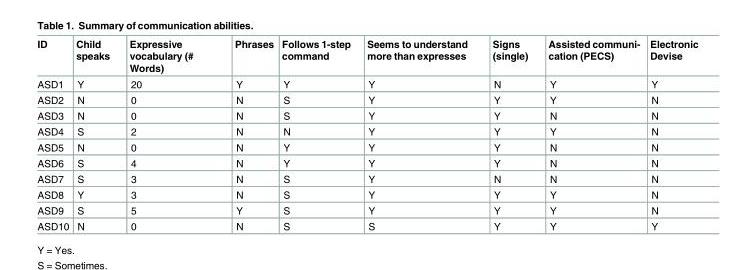table: (36, 37, 697, 231)
table column: (358, 37, 479, 231), (537, 37, 644, 231), (118, 37, 213, 231), (277, 37, 358, 231), (213, 37, 277, 231), (479, 37, 537, 231), (644, 37, 697, 231), (71, 37, 118, 231), (36, 37, 71, 231)
table column header: (36, 37, 697, 75)
table row: (36, 37, 697, 75), (36, 75, 697, 91), (36, 91, 697, 107), (36, 107, 697, 123), (36, 138, 697, 154), (36, 154, 697, 170), (36, 170, 697, 186), (36, 186, 697, 202), (36, 123, 697, 138), (36, 202, 697, 217), (36, 217, 697, 231)
